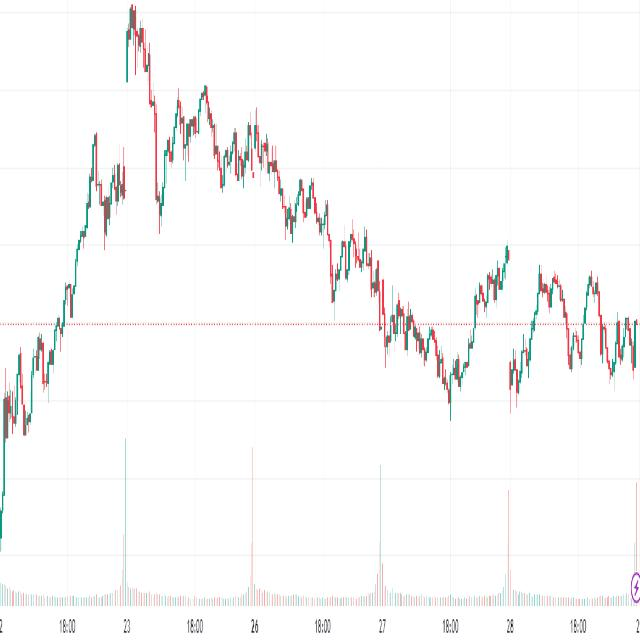Channel-down: (162, 17, 476, 448)
Double-Bottom: (562, 309, 590, 380)
